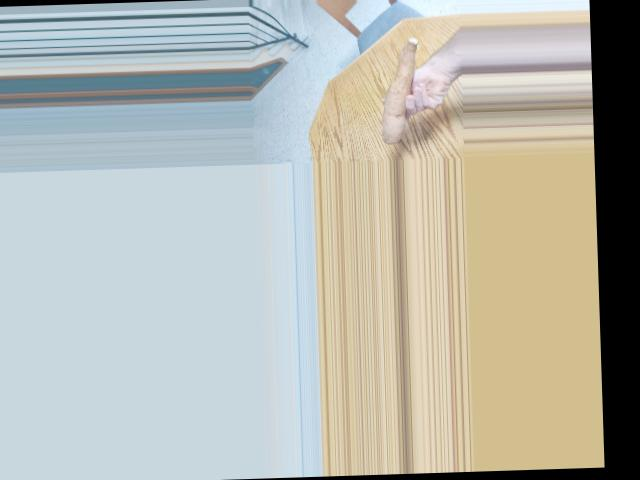sweet_potato: (373, 38, 427, 141)
